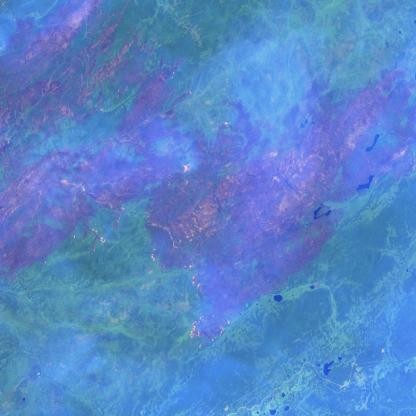fire: (184, 263, 224, 357), (83, 218, 110, 258), (180, 160, 191, 176)
